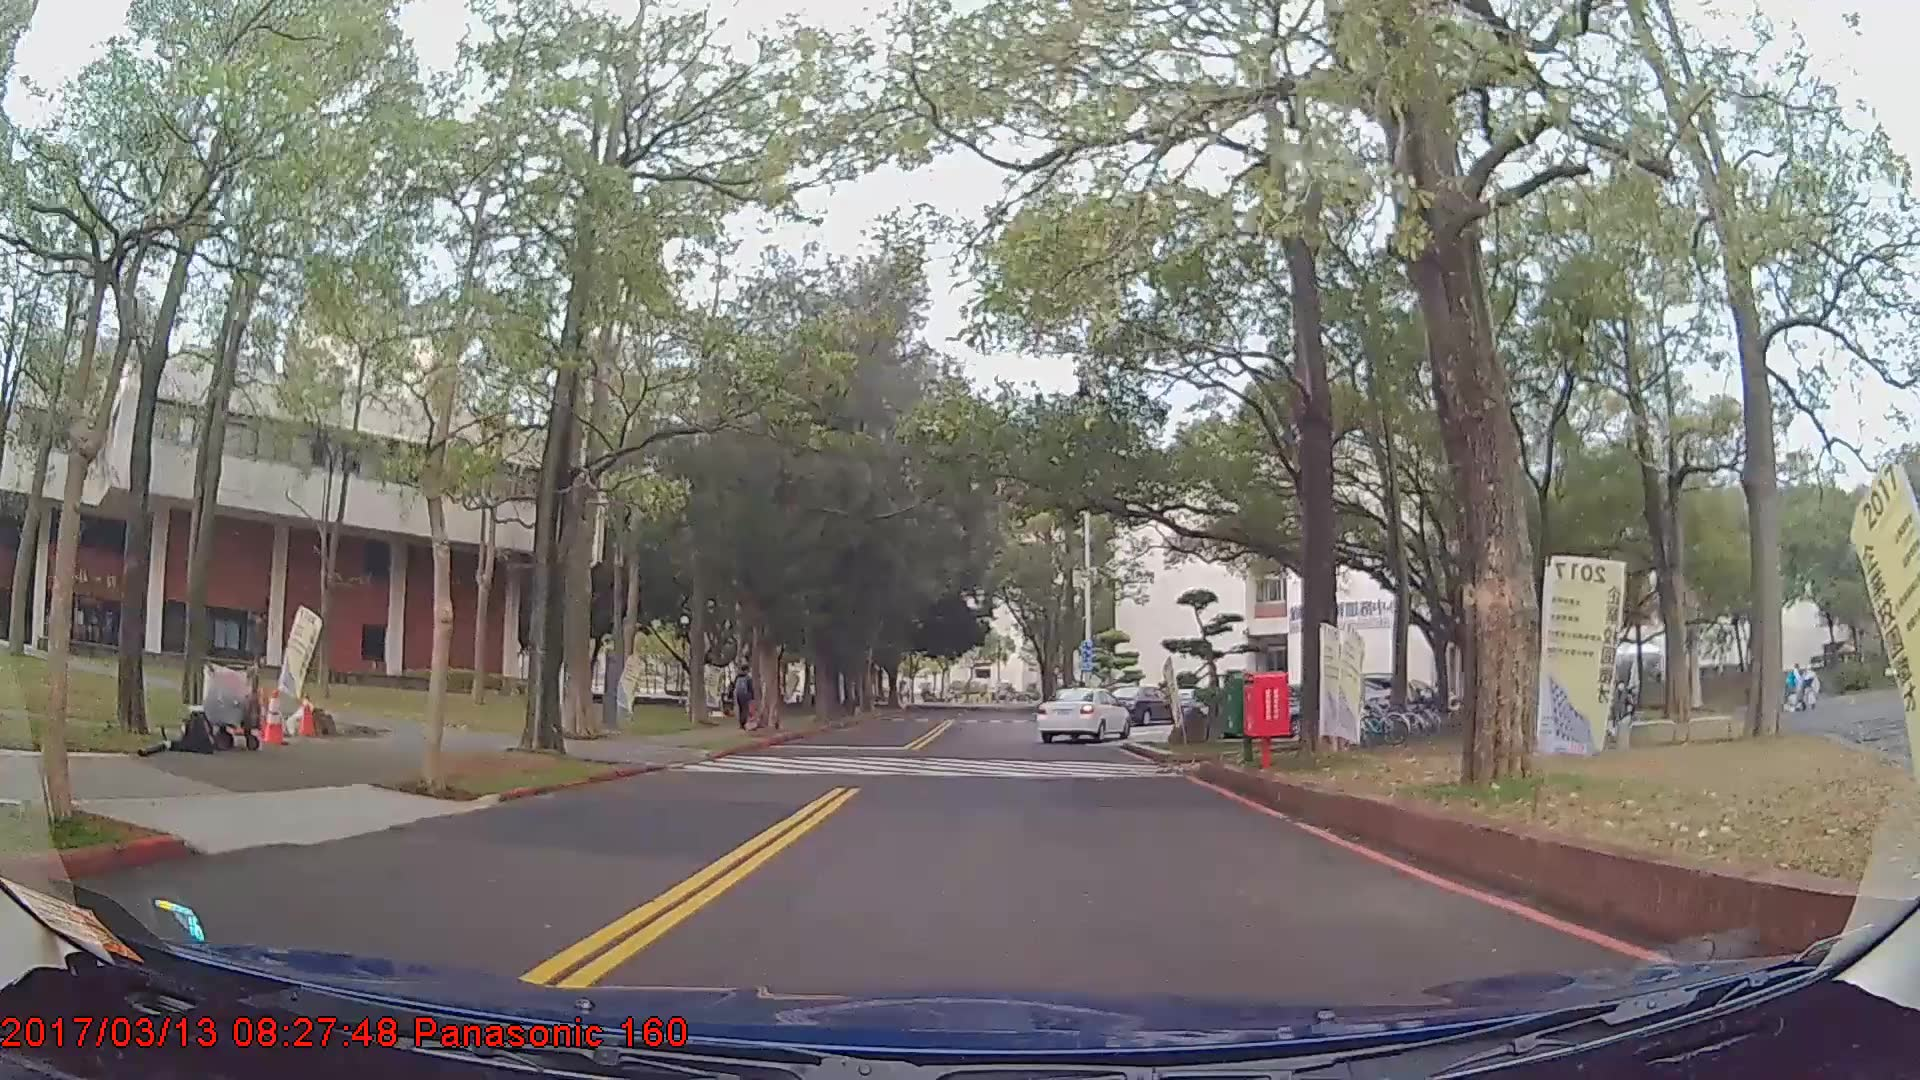pedestrian: (731, 665, 758, 729)
vehicle: (1036, 684, 1129, 744), (1101, 683, 1178, 726)
